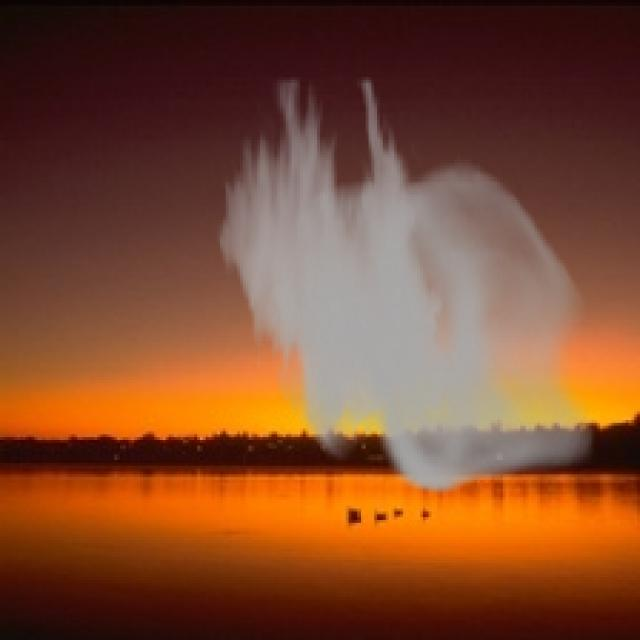smoke: (215, 77, 594, 494)
